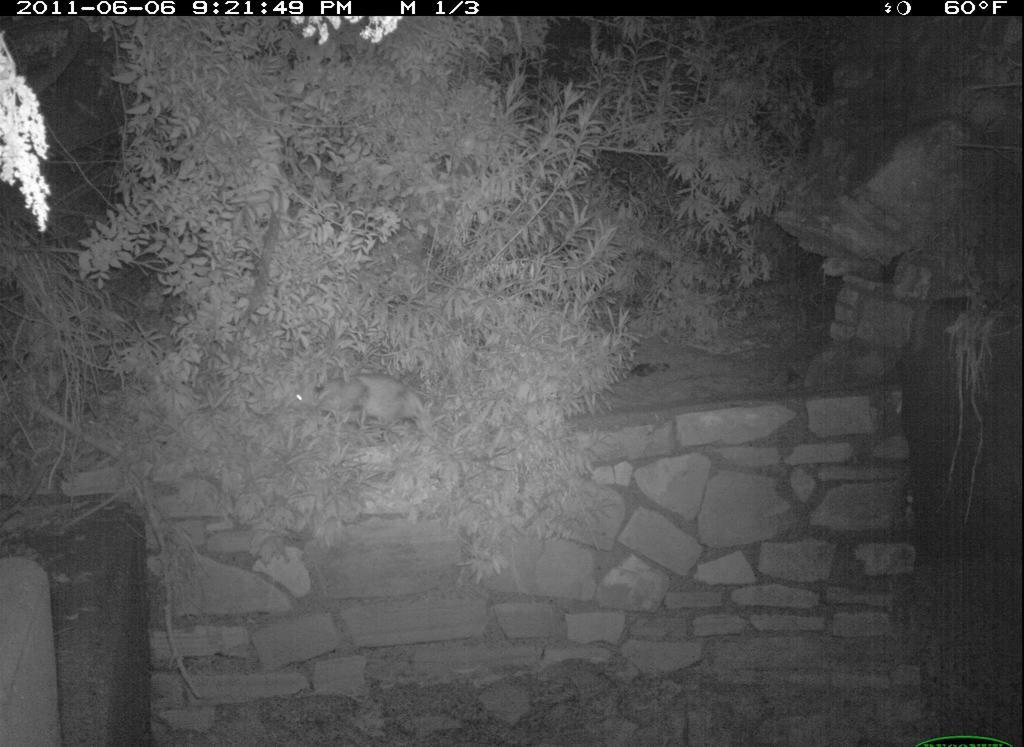opossum: (280, 365, 441, 437)
